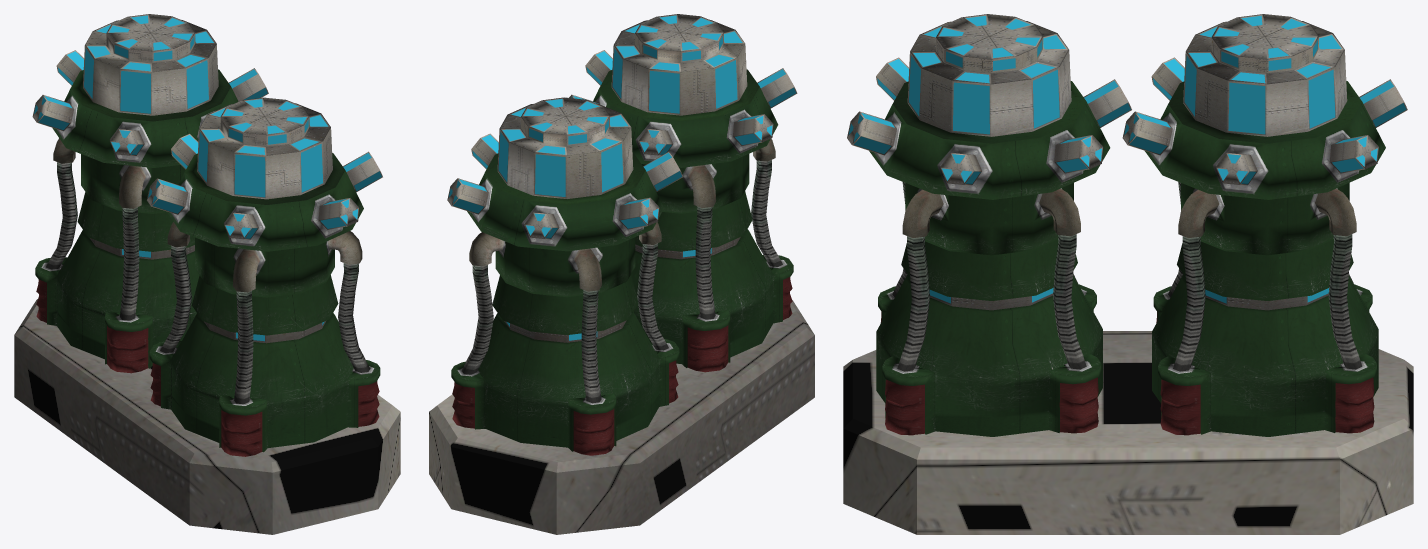
Rendered from Generator.fbx.
3 views of the same model, side by side, from view 1: azimuth 30°, elevation 25°; view 2: azimuth 150°, elevation 25°; view 3: azimuth 270°, elevation 25° (orthographic). The views are drawn at different scales.
Parts seen in each view (by area): view 1: Generator; view 2: Generator; view 3: Generator.
Part boxes in pixels (left/top/right/bottom): Generator: left=14, top=14, right=400, bottom=534; Generator: left=429, top=14, right=814, bottom=534; Generator: left=843, top=14, right=1413, bottom=534.
Bounding box in the file's own units: 93.74 × 153 × 182.
